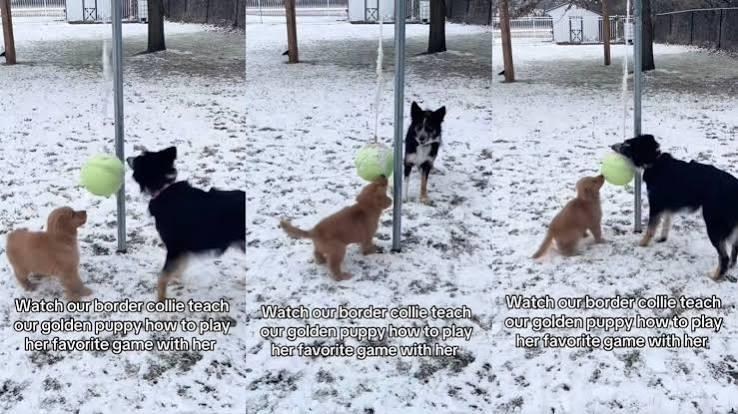adult_dog: (126, 145, 247, 307), (610, 132, 738, 282), (404, 100, 446, 207)
puppy-dog: (277, 174, 393, 280), (4, 204, 93, 303), (532, 174, 607, 260)
